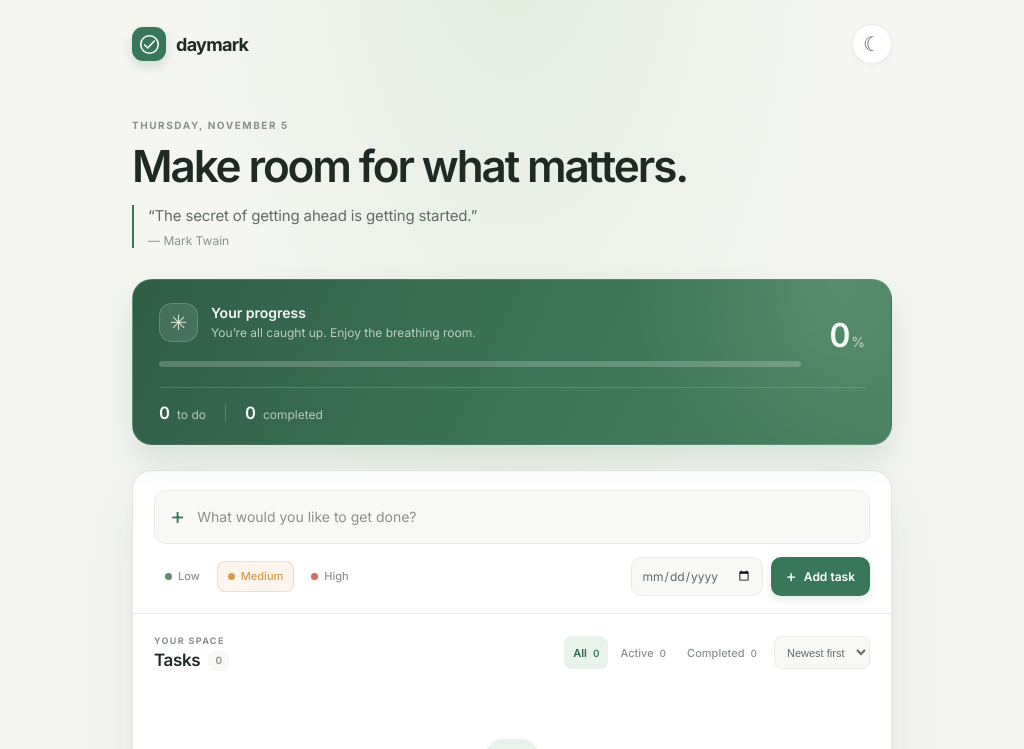
Scenario: adds a task and updates the progress summary
Type "Plan the week" into the field named "New task". click: (526,517)
box: [197,493,854,540]
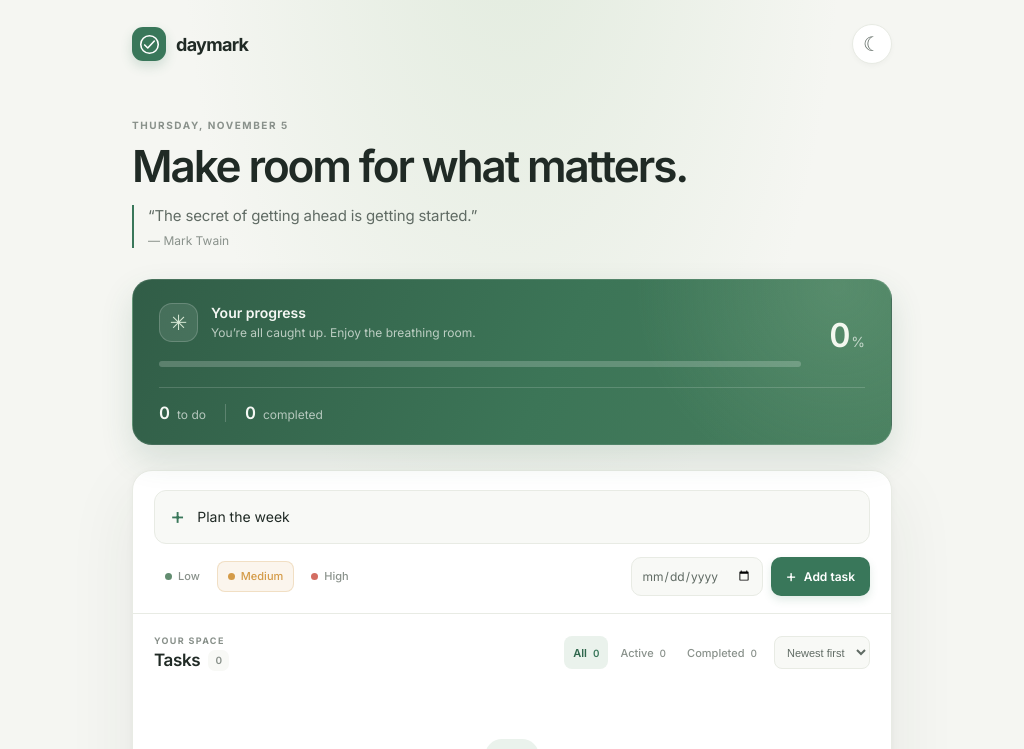
Click the button "+ Add task". click: (820,576)
box: [771,557,870,596]
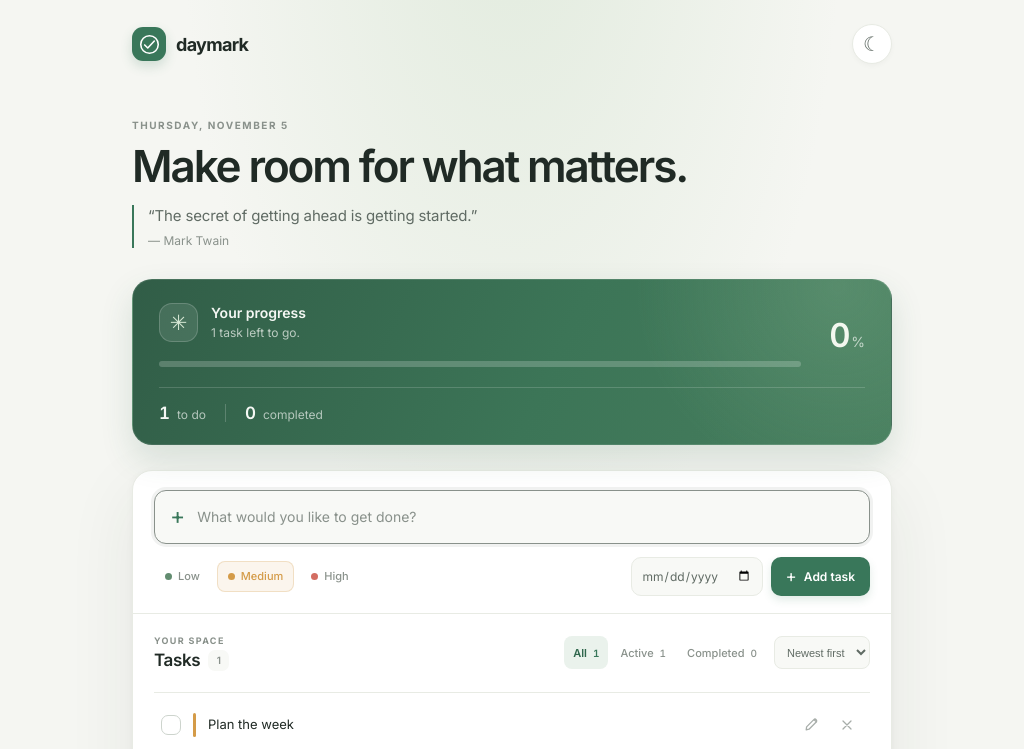
Expected: the text "Plan the week" is shown, [208,715,294,734]
Expected: the text "1" next to "to do" is shown, [159,403,170,423]
